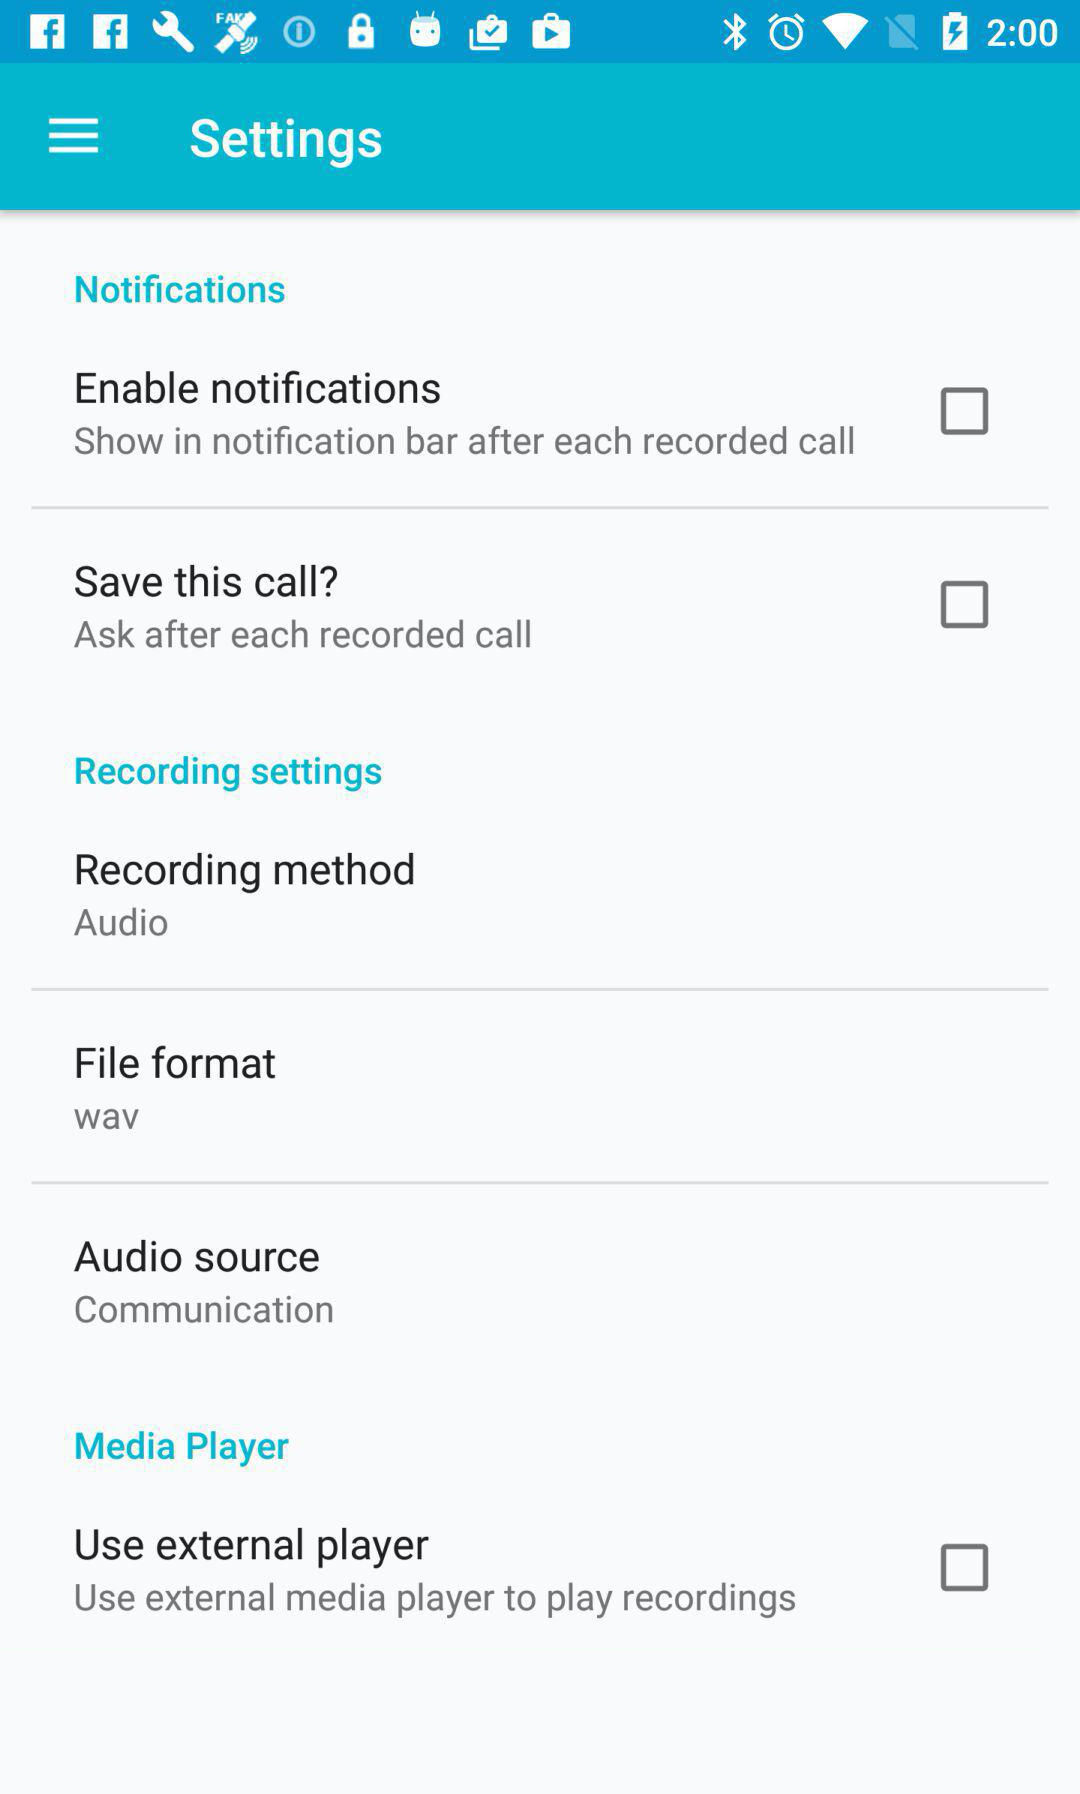CheckedTextView: (942, 1543, 989, 1592), (942, 582, 989, 630), (942, 388, 989, 436)
Icon: (49, 119, 101, 154)
Text: (77, 1583, 796, 1618), (76, 427, 853, 455), (77, 1527, 430, 1568), (77, 852, 415, 894), (76, 620, 530, 648), (77, 372, 441, 405), (77, 757, 382, 793), (192, 120, 382, 169), (76, 566, 338, 598), (76, 1240, 320, 1272), (77, 1431, 290, 1467), (76, 1296, 334, 1322), (77, 1044, 275, 1079), (77, 276, 286, 305), (76, 909, 169, 937), (76, 1108, 140, 1129)
UpperTaskBar: (1, 1, 1080, 64)
